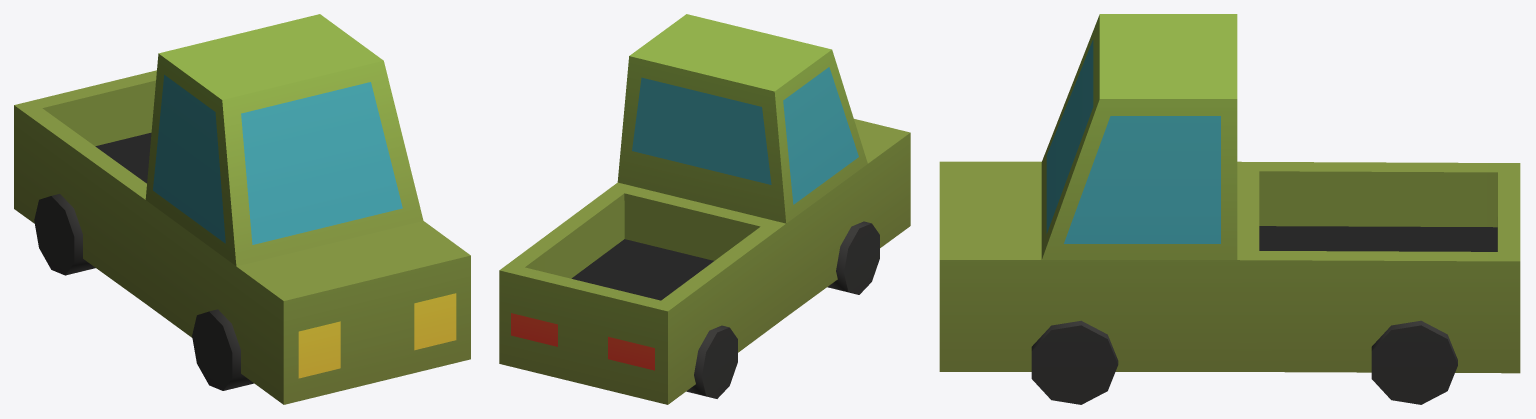
File: Car_1_3.fbx
The picture shows the model from 3 angles, left to right: view 1: azimuth 30°, elevation 25°; view 2: azimuth 150°, elevation 25°; view 3: azimuth 270°, elevation 25°; orthographic projection. The views are drawn at different scales.
Visible parts, largest first — view 1: Car_1_3; view 2: Car_1_3; view 3: Car_1_3.
Part boxes in pixels (<box>): Car_1_3: <box>14,14,470,404</box>; Car_1_3: <box>499,14,910,404</box>; Car_1_3: <box>939,14,1520,404</box>.
Bounding box in the file's own units: 211 × 270 × 483.
